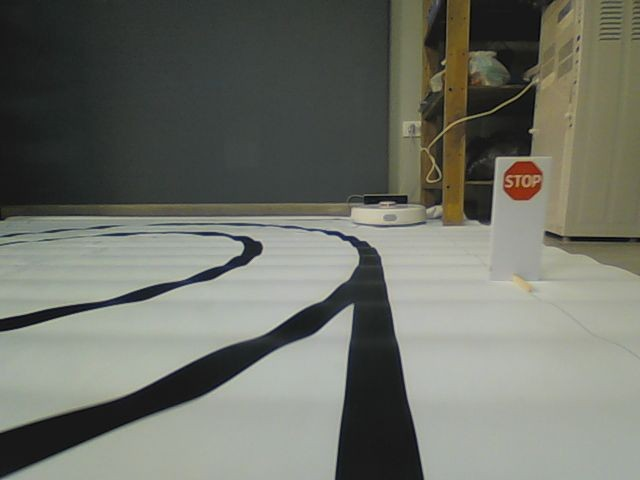Stop: (502, 160, 544, 202)
